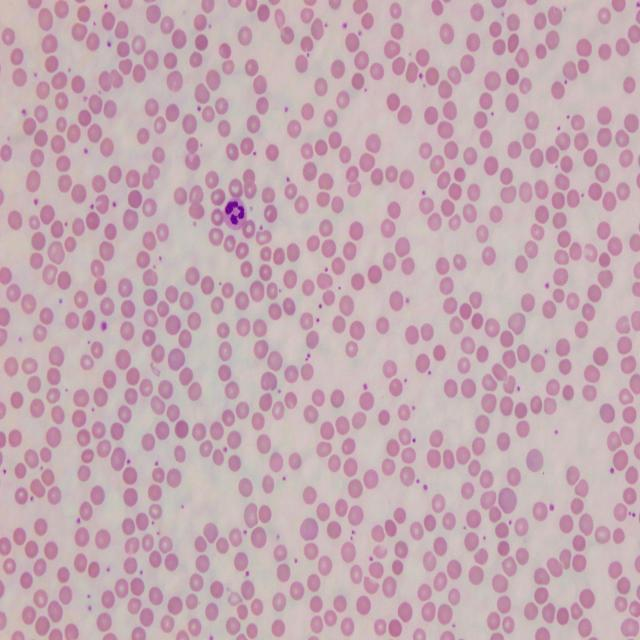cell: (224, 198, 246, 230)
